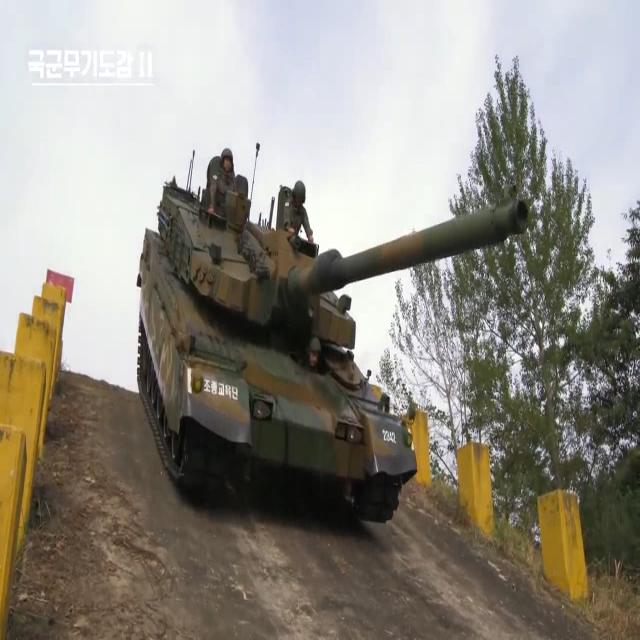korea tank: (134, 142, 532, 524)
